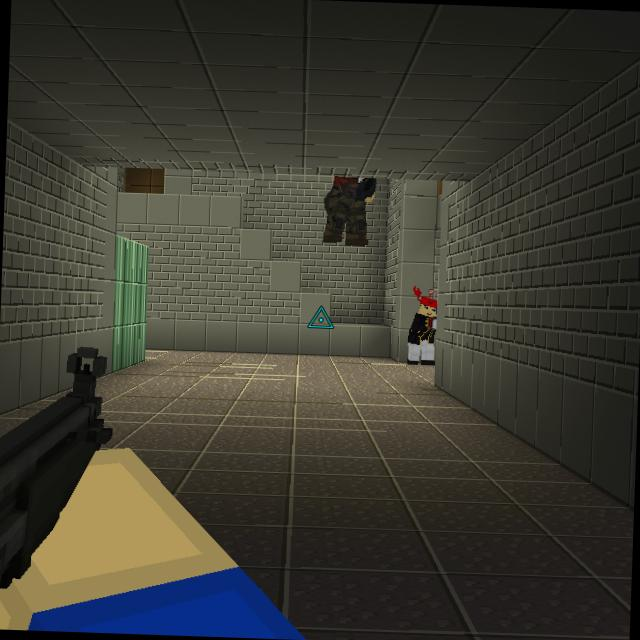enemy: (322, 175, 376, 246), (406, 285, 438, 366)
